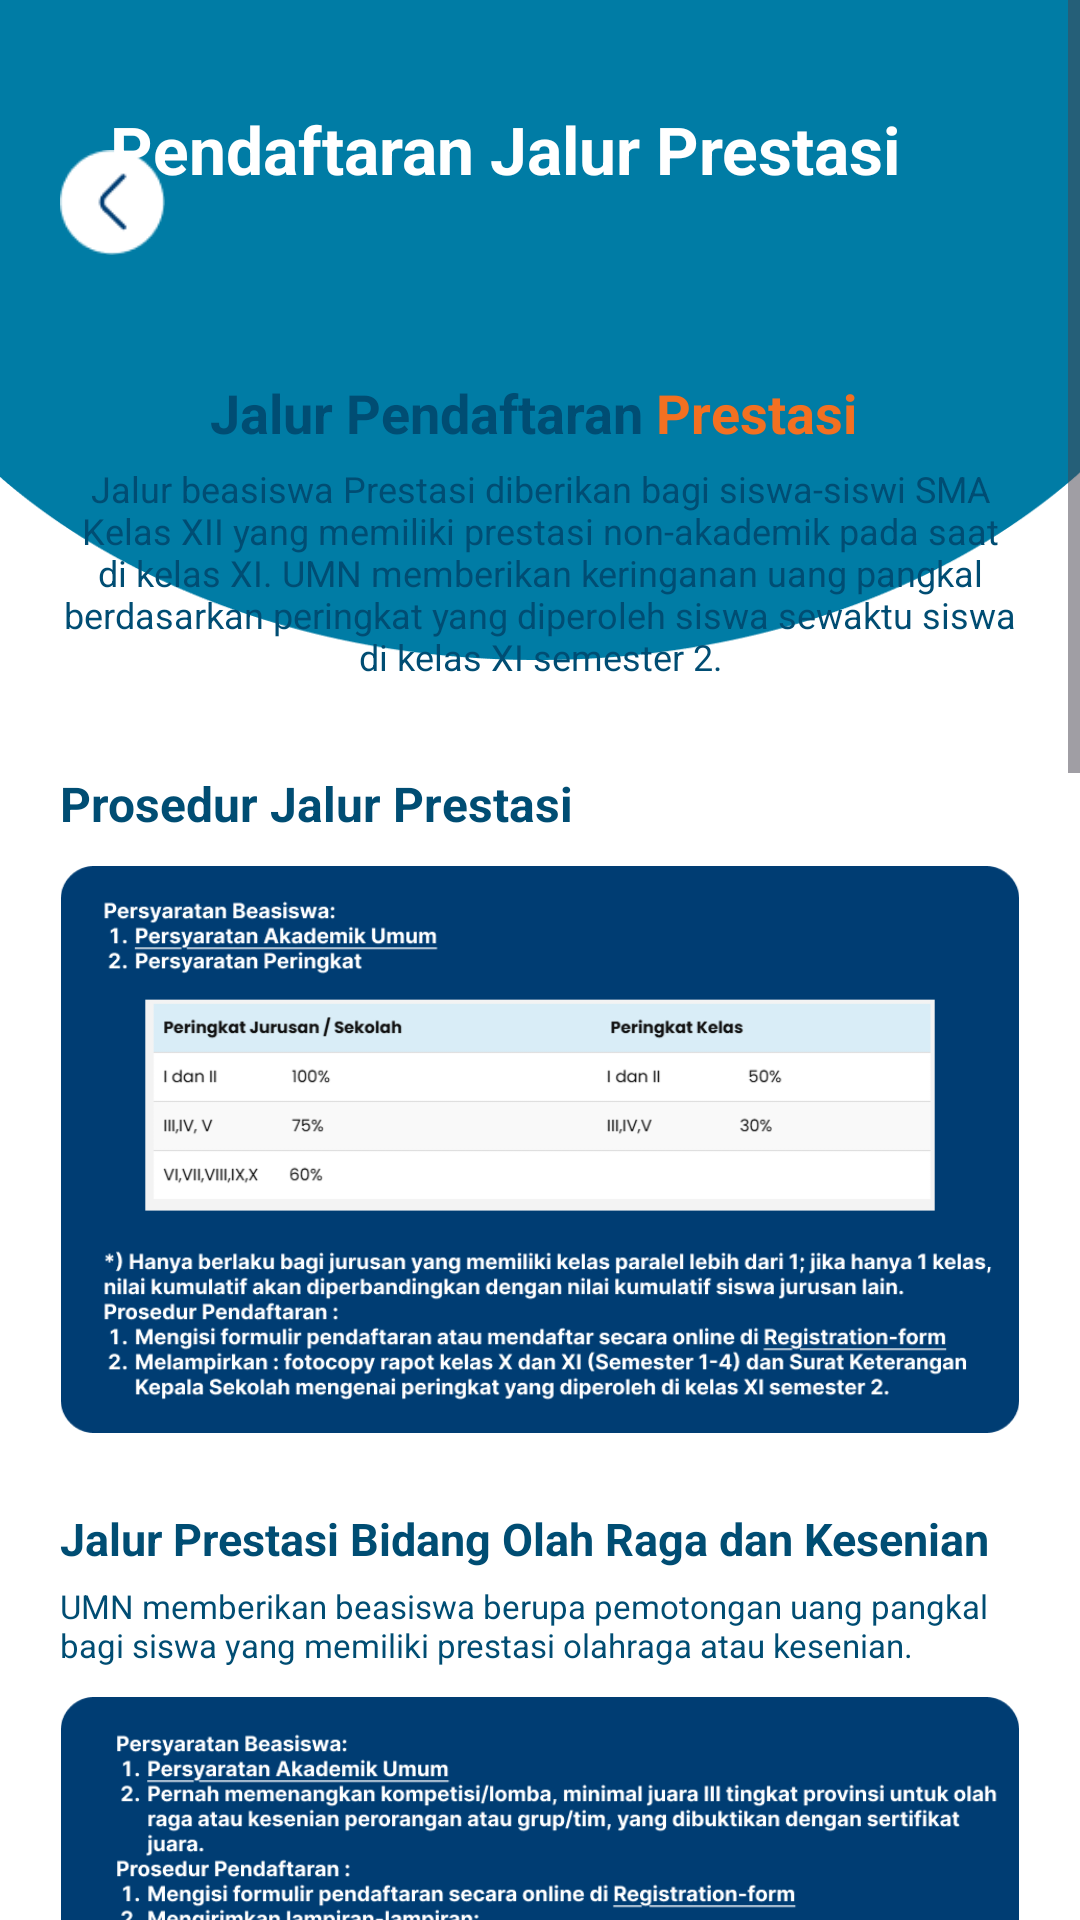

Screen size 1080×1920. Icon name, then its box in pixels as region(x1, y1, x2, y2):
back: region(60, 150, 165, 255)
